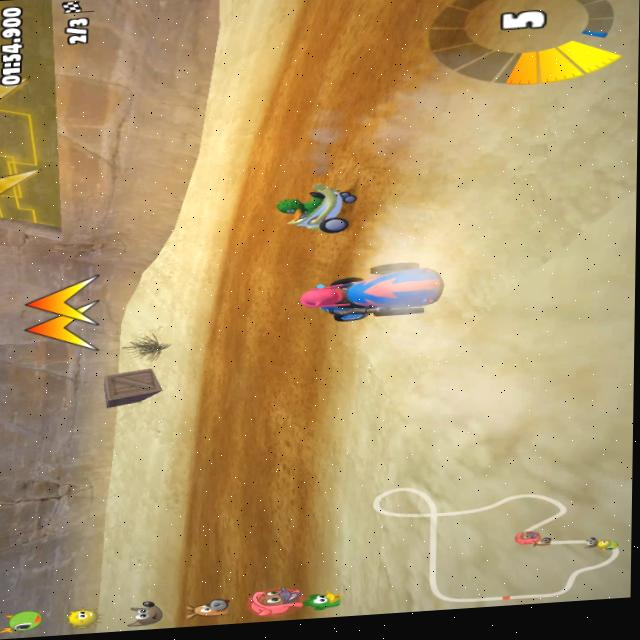enemy_kart: (283, 180, 364, 234)
player_kart: (304, 256, 440, 331)
track: (172, 459, 322, 628), (185, 342, 321, 469), (207, 232, 316, 343), (309, 0, 392, 106), (286, 103, 379, 181), (251, 65, 313, 161), (225, 161, 280, 232), (394, 0, 440, 80), (296, 4, 313, 63)
